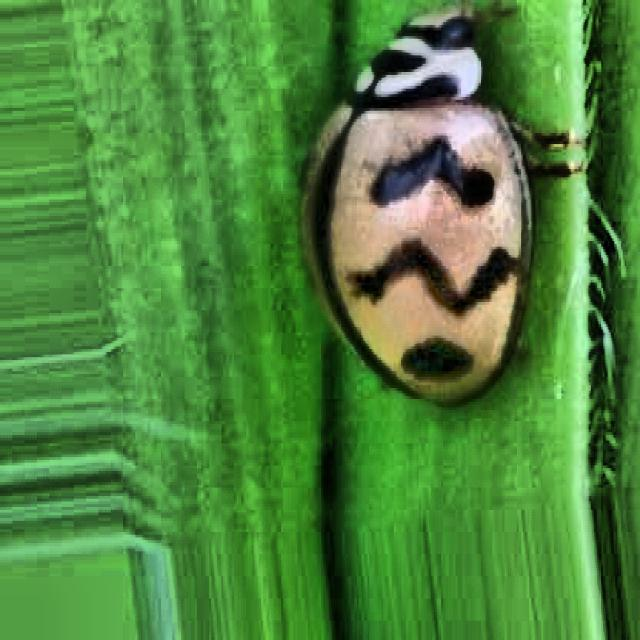Asian-Lady-beetle: (281, 7, 591, 475)
